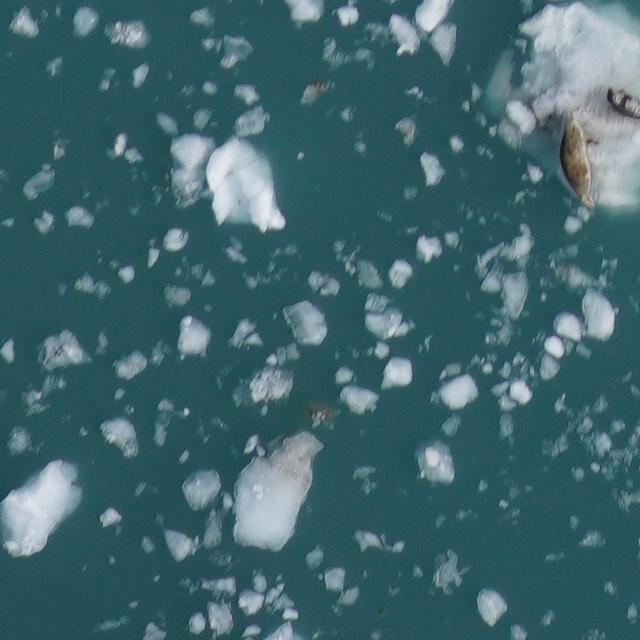seal: (560, 114, 595, 209), (607, 87, 639, 119)
